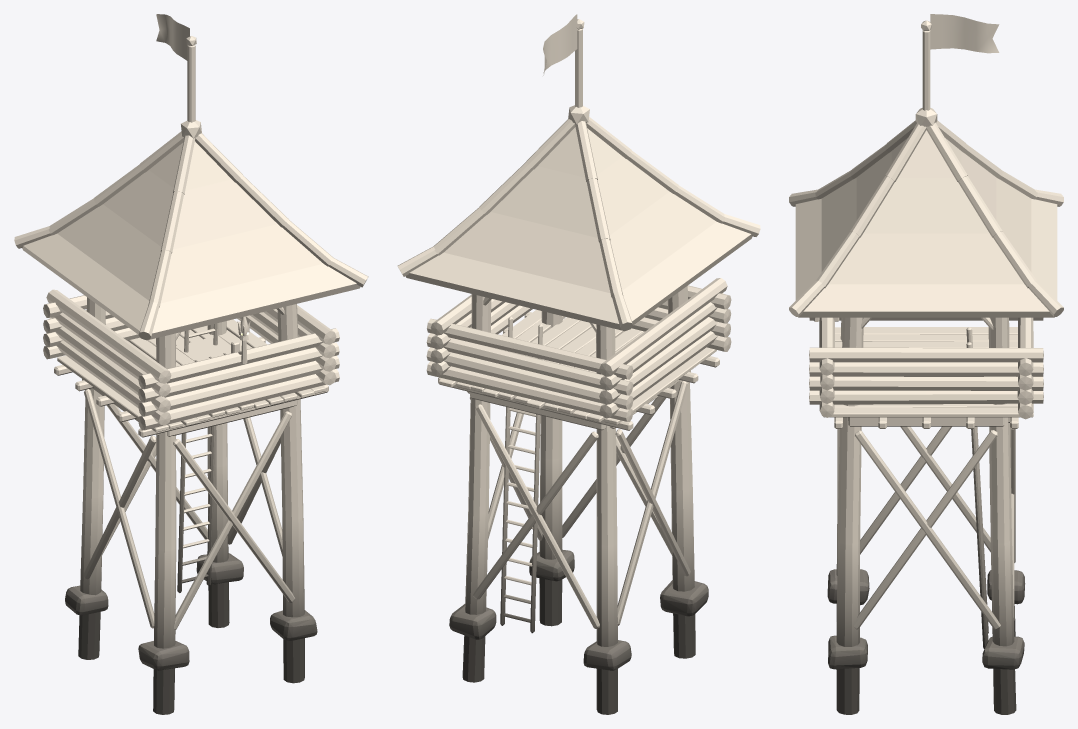
Rendered from SM_VK_Palisade_Tower.fbx.
3 renders of one model, left to right at view 1: azimuth 30°, elevation 25°; view 2: azimuth 150°, elevation 25°; view 3: azimuth 270°, elevation 25°, orthographic. The views are drawn at different scales.
Visible parts, largest first — view 1: SM_VK_Palisade_Tower.001; view 2: SM_VK_Palisade_Tower.001; view 3: SM_VK_Palisade_Tower.001.
Part boxes in pixels (x1,y1,x2,y2): SM_VK_Palisade_Tower.001: [14, 14, 368, 714]; SM_VK_Palisade_Tower.001: [397, 14, 760, 714]; SM_VK_Palisade_Tower.001: [789, 14, 1063, 714].
Size of the model in its own units: 4.38 by 11.66 by 4.38.
